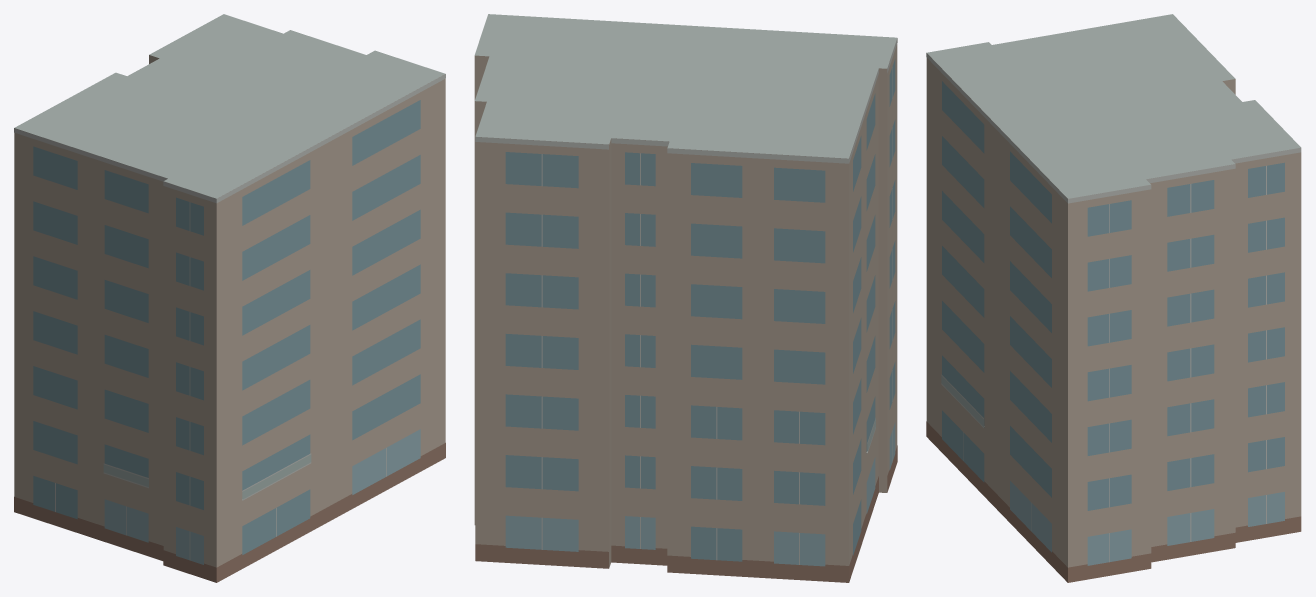
File: survey-upis-32906622.glb
3 renders of one model, left to right at view 1: azimuth 30°, elevation 25°; view 2: azimuth 150°, elevation 25°; view 3: azimuth 270°, elevation 25°, orthographic. The views are drawn at different scales.
Visible parts, largest first — view 1: survey-upis-32906622.tmp; view 2: survey-upis-32906622.tmp; view 3: survey-upis-32906622.tmp.
Boxes of the visible parts, x1=… form: survey-upis-32906622.tmp: x1=14, y1=14, x2=445, y2=582; survey-upis-32906622.tmp: x1=474, y1=14, x2=897, y2=582; survey-upis-32906622.tmp: x1=926, y1=14, x2=1301, y2=582.
Bounding box in the file's own units: 20.87 × 20.2 × 17.88.
